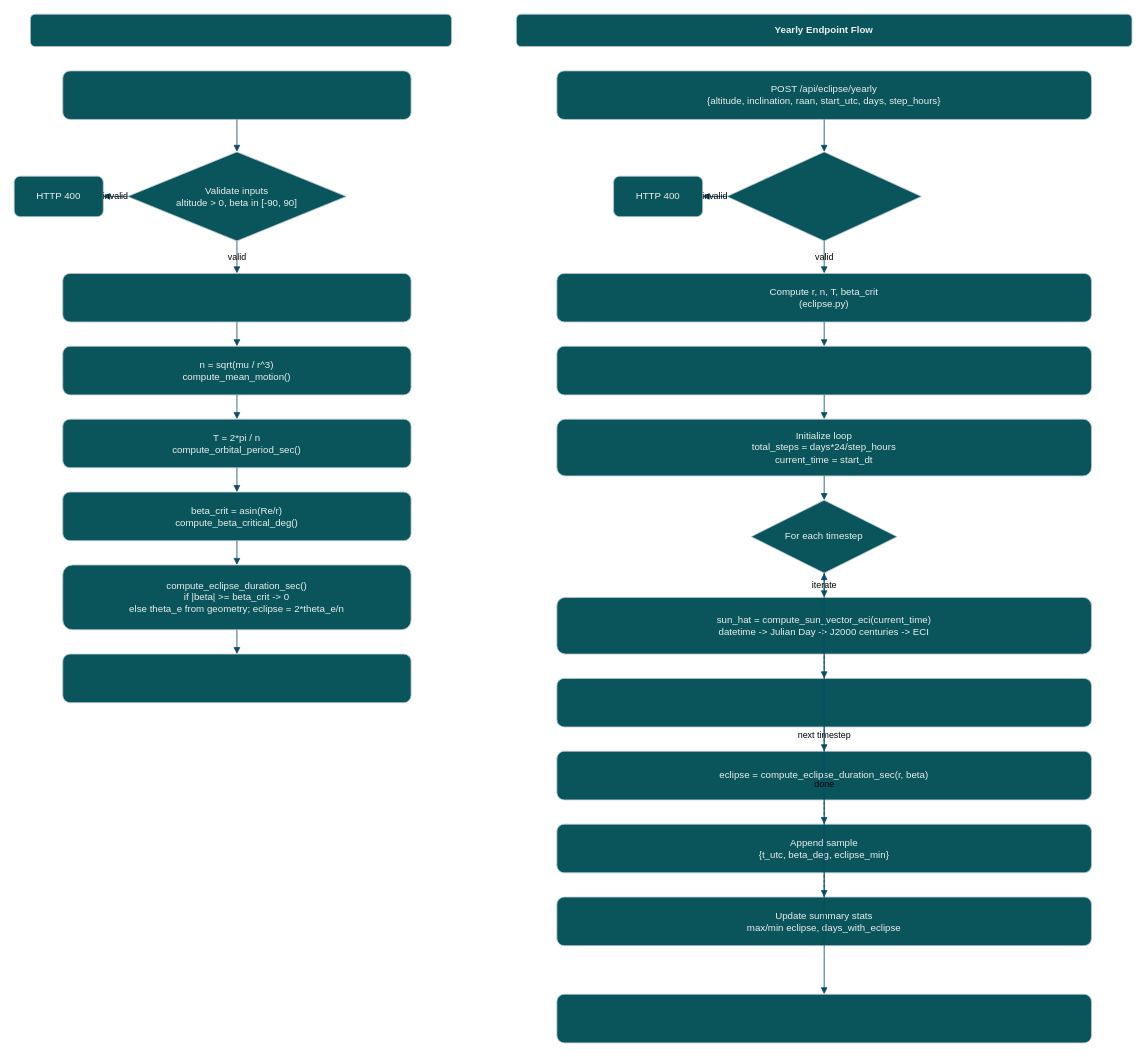
Some shapes in this 1146 by 1057 pixel diagram are drawn without their labels. Each missing label, with the centre of its shape:
"beta = asin(dot(sun_hat, h_hat)) compute_beta_angle_deg()" belongs at point 823,702.
"Build EclipseSummary + return YearlyEclipseResponse" belongs at point 823,1018.
"Circular Endpoint Flow" belongs at point 241,30.
"h_hat = compute_orbit_normal_eci(inclination, raan) (sun.py)" belongs at point 823,370.
"POST /api/eclipse/circular {altitude_km, beta_deg}" belongs at point 236,94.
"r = Re + altitude compute_orbit_radius_km()" belongs at point 236,297.
"Return CircularEclipseResponse" belongs at point 236,678.
"Validate inputs + parse start_utc" belongs at point 823,196.
